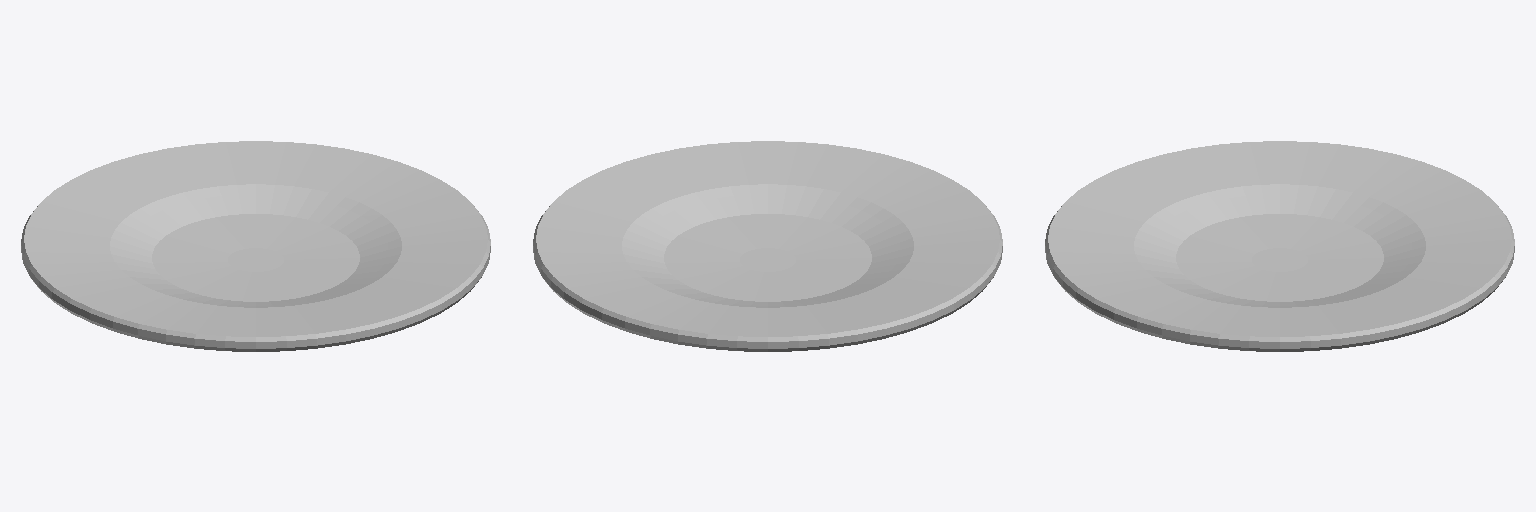
The model's file is Tea_Plate.obj.
3 views of the same model, side by side, from view 1: azimuth 30°, elevation 25°; view 2: azimuth 150°, elevation 25°; view 3: azimuth 270°, elevation 25° (orthographic).
Parts seen in each view (by area): view 1: Tea_Plate; view 2: Tea_Plate; view 3: Tea_Plate.
Part boxes in pixels (x1,y1,x2,y2): Tea_Plate: (21,141,490,351); Tea_Plate: (533,141,1002,351); Tea_Plate: (1045,141,1514,351).
Size of the model in its own units: 0.1321 by 0.0105 by 0.1321.